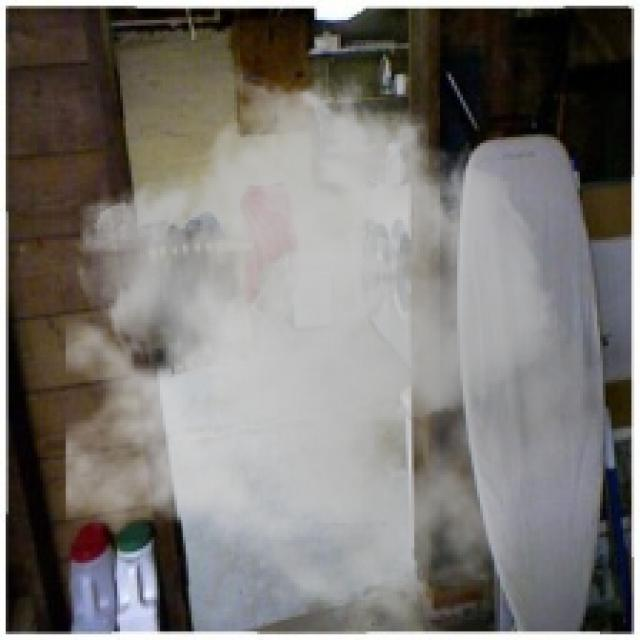smoke: (66, 63, 597, 628)
